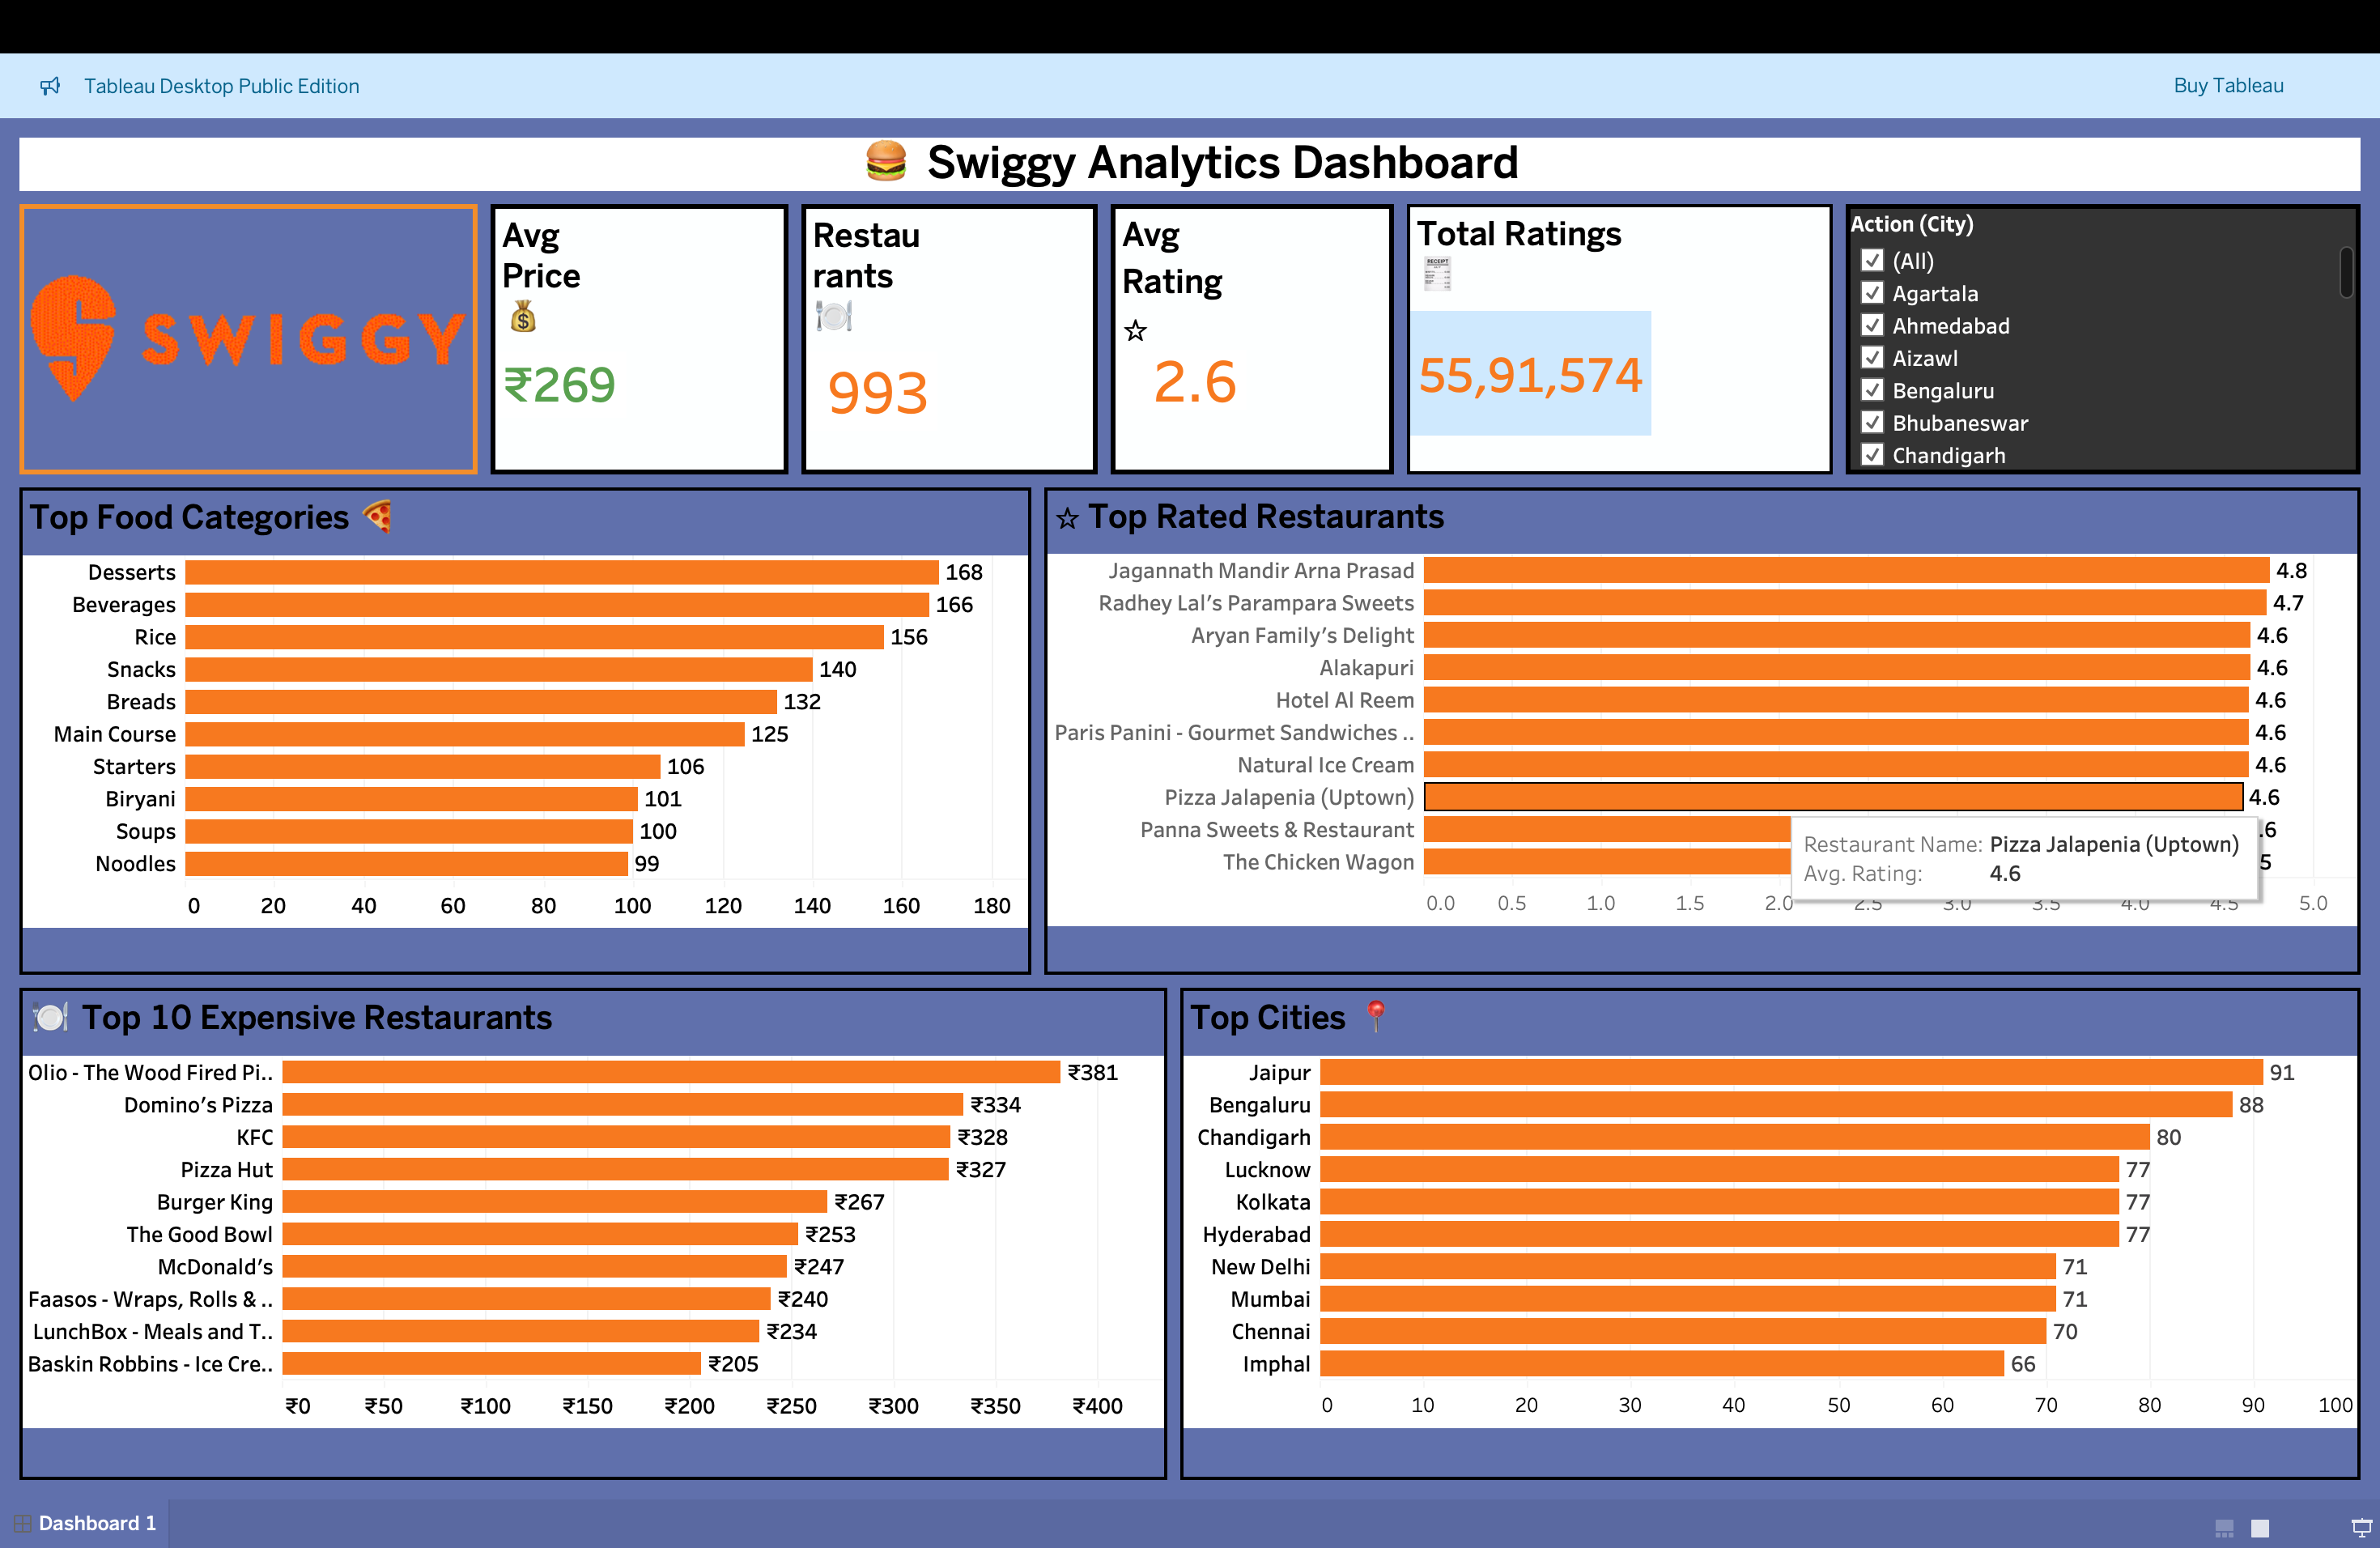

The dashboard page shown, as its layout file describes it:
{"tool":"tableau","page":{"name":"Dashboard 1","canvas":[1000,1000],"units":"permille","ordinal":0},"visuals":[{"type":"title","box":[5.7,10,988.6,51.2]},{"type":"image","param":"Image/Swiggy-Symbol.png","box":[5.7,61.2,197.8,203.7]},{"type":"worksheet","title":" Average Price","mark":"Automatic","box":[203.5,61.2,130.7,203.7]},{"type":"worksheet","title":"Total Restaurants 🍽️","mark":"Automatic","box":[334.2,61.2,130,203.7]},{"type":"worksheet","title":"Average Rating ⭐","mark":"Automatic","box":[464.3,61.2,124.3,203.7]},{"type":"worksheet","title":"Total Ratings 🧾","mark":"Automatic","box":[588.6,61.2,184.3,203.7]},{"type":"filter","title":"Top Food Categories 🍕","param":"[federated.0syk75a0852v9h1149ax91qgyph7].[Action (City)]","box":[772.8,61.2,221.5,203.7]},{"type":"worksheet","title":"Top Food Categories 🍕","mark":"Automatic","rows":["Category"],"cols":["Restaurant Name"],"box":[5.7,265,430.1,360.6]},{"type":"worksheet","title":"⭐ Top Rated Restaurants ","mark":"Automatic","rows":["Restaurant Name"],"cols":["Rating"],"box":[435.8,265,558.5,360.6]},{"type":"worksheet","title":"🍽️ Top 10 Expensive Restaurants","mark":"Automatic","rows":["Restaurant Name"],"cols":["Price (INR)"],"box":[5.7,625.6,487.6,364.4]},{"type":"worksheet","title":"Top Cities 📍","mark":"Automatic","rows":["City"],"cols":["Restaurant Name"],"box":[493.3,625.6,501,364.4]}]}

Visuals, with their boxes on the dashboard's canvas, which has no fixed pixel size, in thousandths of its width and height (x1, y1, x2, y2). These are canvas units, not pixel positions in the 2380x1548 screenshot, which may show the page scaled, cropped or inside an application window:
title: 6,10,994,61
image: 6,61,204,265
" Average Price" worksheet: 204,61,334,265
"Total Restaurants 🍽️" worksheet: 334,61,464,265
"Average Rating ⭐" worksheet: 464,61,589,265
"Total Ratings 🧾" worksheet: 589,61,773,265
"Top Food Categories 🍕" filter: 773,61,994,265
"Top Food Categories 🍕" worksheet: 6,265,436,626
"⭐ Top Rated Restaurants " worksheet: 436,265,994,626
"🍽️ Top 10 Expensive Restaurants" worksheet: 6,626,493,990
"Top Cities 📍" worksheet: 493,626,994,990
